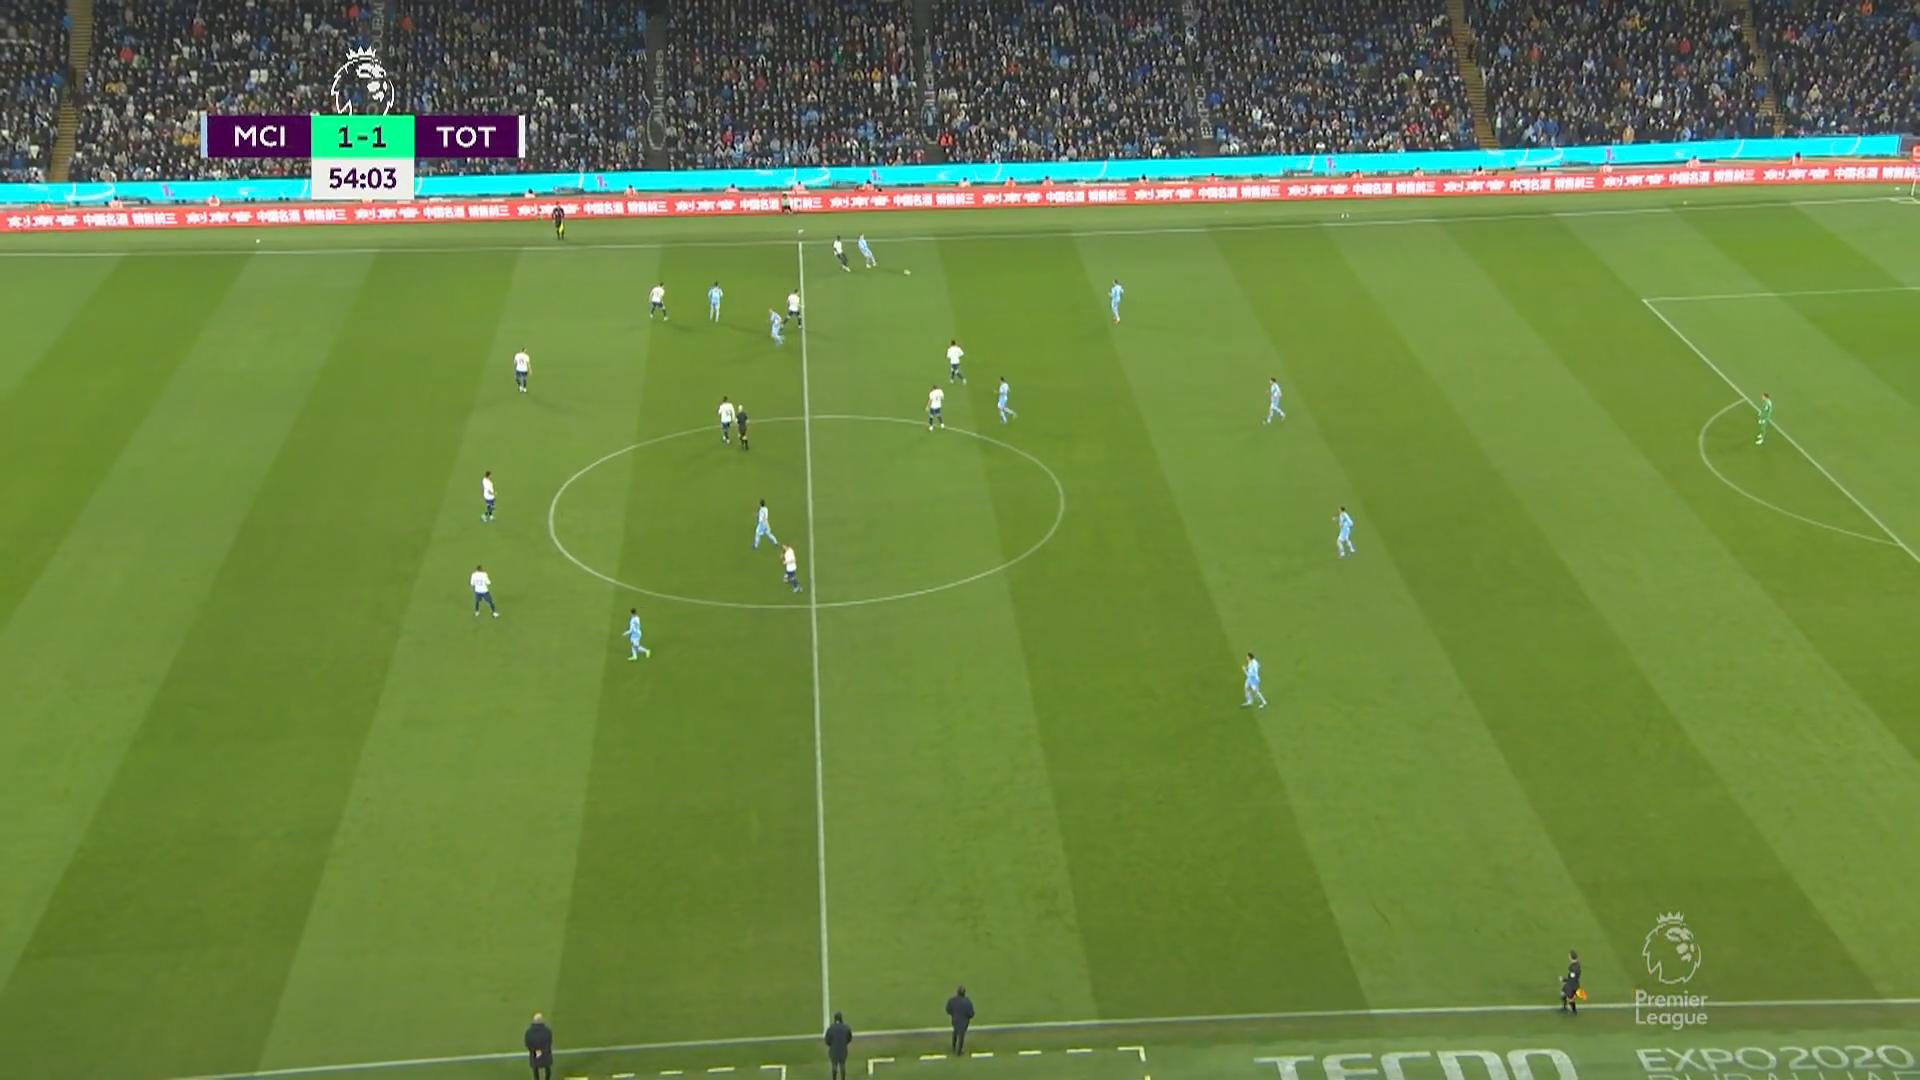ball: (904, 269, 910, 276)
goalkeeper: (1753, 390, 1773, 445)
player: (468, 564, 499, 618), (1240, 651, 1267, 709), (621, 607, 650, 661), (751, 498, 778, 550), (1332, 505, 1355, 558), (779, 543, 801, 593), (1263, 376, 1285, 425), (716, 394, 736, 445), (995, 375, 1016, 423), (944, 339, 965, 384), (479, 470, 497, 521), (925, 385, 944, 430), (647, 282, 668, 322), (512, 346, 530, 392), (1107, 279, 1124, 323), (831, 234, 850, 273), (856, 232, 876, 269), (706, 280, 723, 323), (784, 288, 802, 328), (767, 307, 785, 345)
referee: (735, 404, 751, 451)
